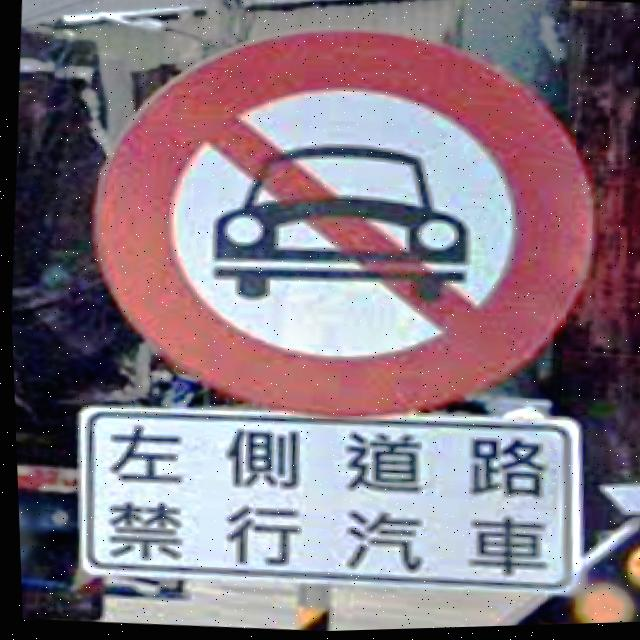nocar: (91, 31, 591, 423)
